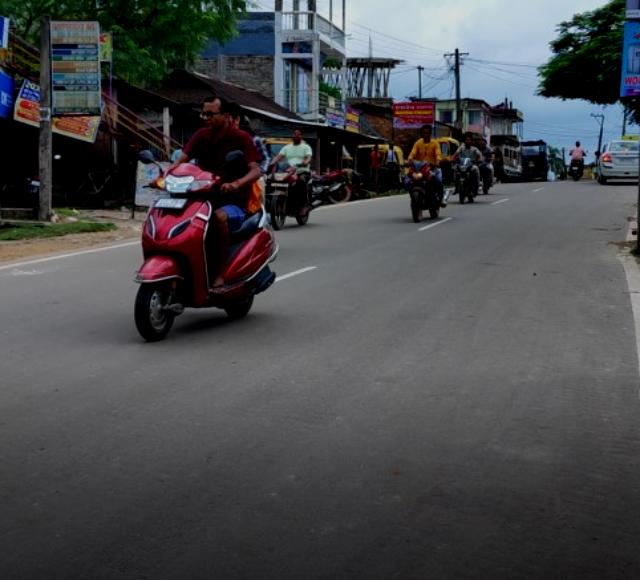licensePlate: (150, 198, 186, 210), (270, 180, 287, 188)
motorcycle: (133, 94, 273, 342), (397, 117, 448, 224), (268, 126, 315, 231), (451, 129, 482, 208)
withoutHelmet: (195, 98, 229, 133), (230, 100, 246, 131), (418, 125, 435, 140), (290, 132, 302, 145), (463, 137, 472, 150)
